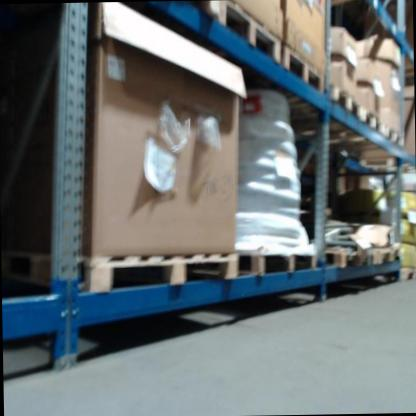pallet: (1, 239, 239, 295), (218, 0, 282, 67), (282, 41, 324, 95), (237, 249, 317, 277), (330, 82, 363, 123), (324, 245, 377, 268), (361, 106, 384, 136), (376, 244, 402, 265), (384, 125, 404, 147), (400, 265, 416, 281)
